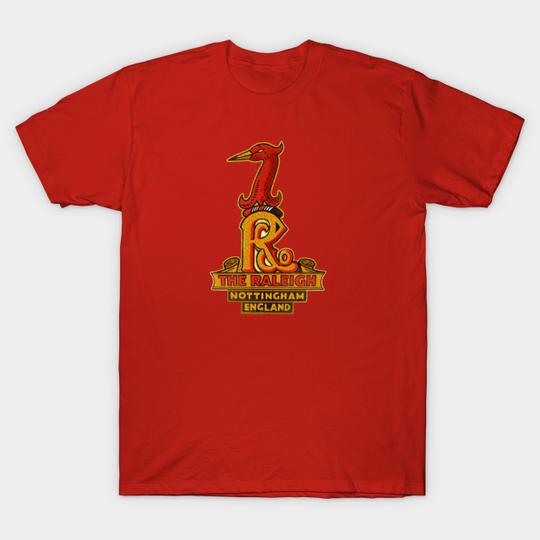design: (206, 138, 329, 317)
